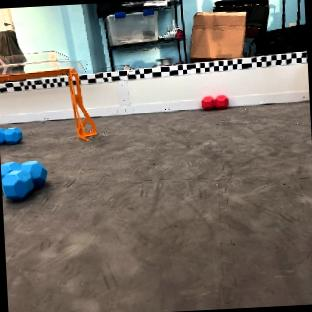Goal: (0, 50, 96, 140)
V5_BLUE: (0, 159, 48, 201), (0, 126, 22, 145)
V5_RED: (200, 94, 228, 110)
